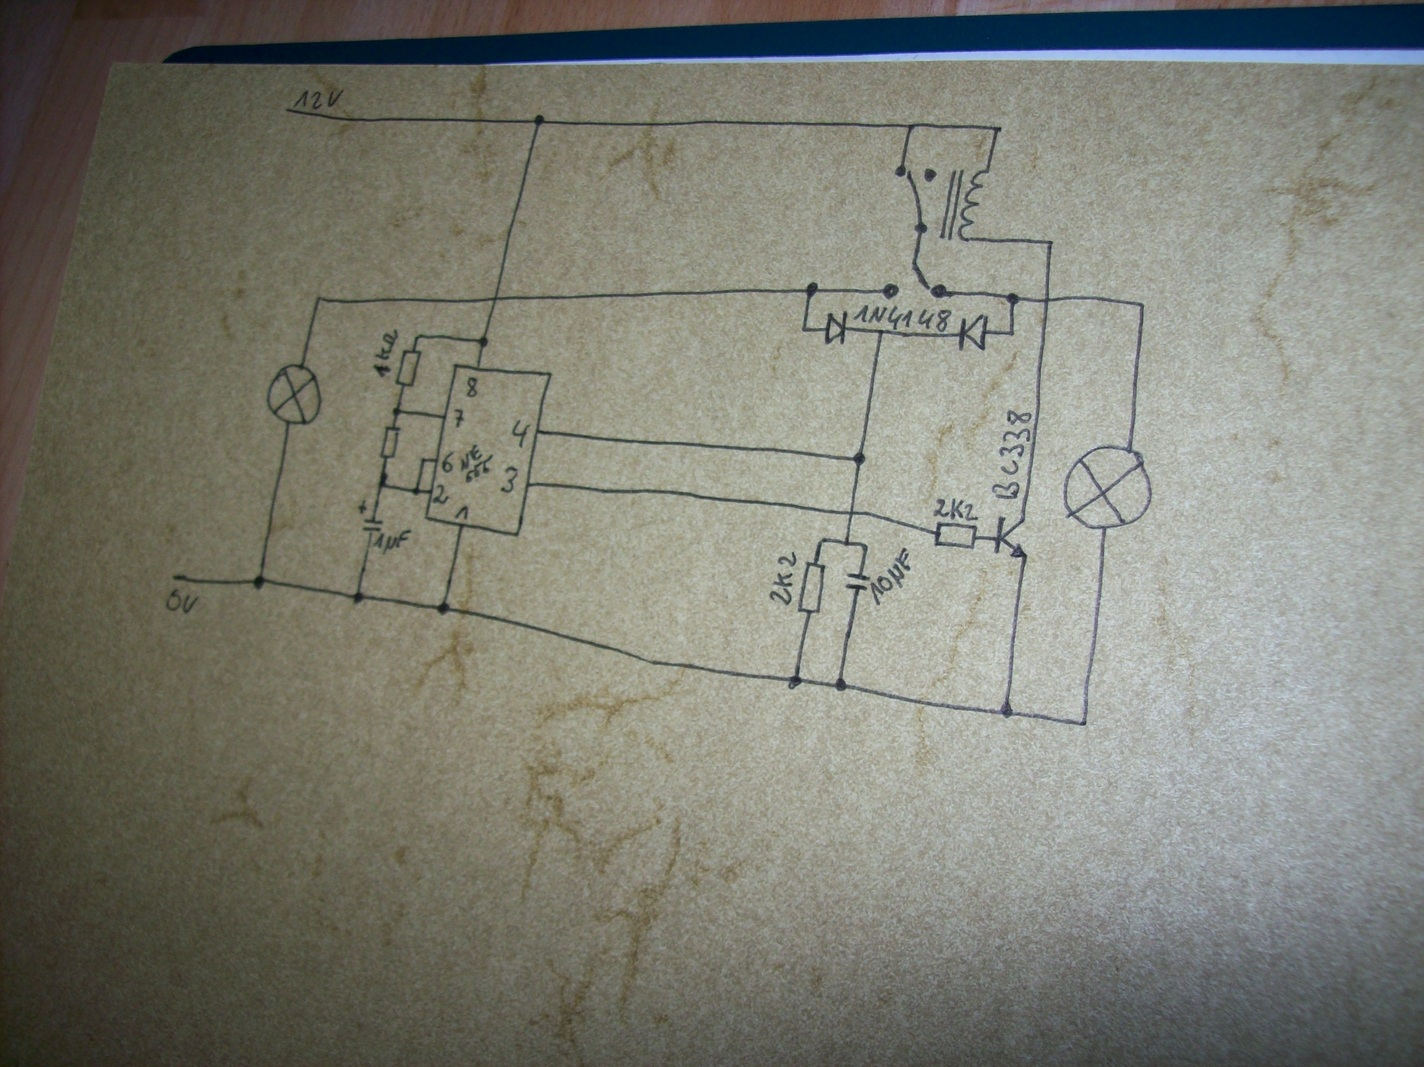capacitor.polarized: (357, 498, 384, 533)
capacitor.unpolarized: (844, 570, 871, 593)
crossover: (845, 505, 858, 521), (488, 293, 504, 306), (1041, 294, 1054, 306)
diode: (958, 313, 989, 352), (823, 309, 848, 346)
integrated_cricuit.ne555: (425, 364, 552, 537)
junction: (787, 674, 803, 692), (999, 700, 1014, 720), (851, 451, 867, 467), (832, 676, 848, 693), (251, 575, 266, 591), (806, 281, 819, 298), (436, 602, 450, 616), (351, 591, 365, 605), (1005, 293, 1020, 306), (533, 113, 546, 129), (376, 473, 387, 490), (875, 326, 888, 338), (990, 123, 1005, 134), (477, 335, 490, 347), (1006, 327, 1018, 340), (1044, 236, 1057, 249), (904, 120, 916, 132), (1136, 300, 1148, 312), (799, 323, 810, 335), (1078, 718, 1089, 730), (411, 486, 422, 497), (816, 536, 826, 547), (392, 406, 402, 416), (843, 538, 851, 549), (315, 294, 325, 303), (413, 332, 422, 342), (860, 542, 871, 551), (419, 456, 426, 465)
lamp: (1063, 444, 1153, 530), (266, 363, 323, 426)
relay: (893, 165, 990, 243)
resistor: (797, 562, 826, 614), (933, 521, 978, 550), (395, 347, 422, 388), (379, 424, 401, 460)
switch: (883, 260, 947, 300)
terminal: (169, 570, 187, 585), (283, 105, 295, 115)
text: (992, 410, 1033, 499), (851, 304, 951, 331), (871, 548, 911, 605), (769, 551, 795, 606), (460, 444, 493, 484), (372, 330, 398, 378), (932, 497, 978, 520), (373, 530, 412, 556), (294, 90, 343, 110), (166, 590, 199, 614), (510, 419, 531, 448), (499, 466, 519, 494), (431, 484, 449, 505), (465, 375, 480, 399), (441, 451, 455, 474), (452, 407, 465, 429), (454, 505, 471, 521)
transistor: (994, 516, 1031, 559)
